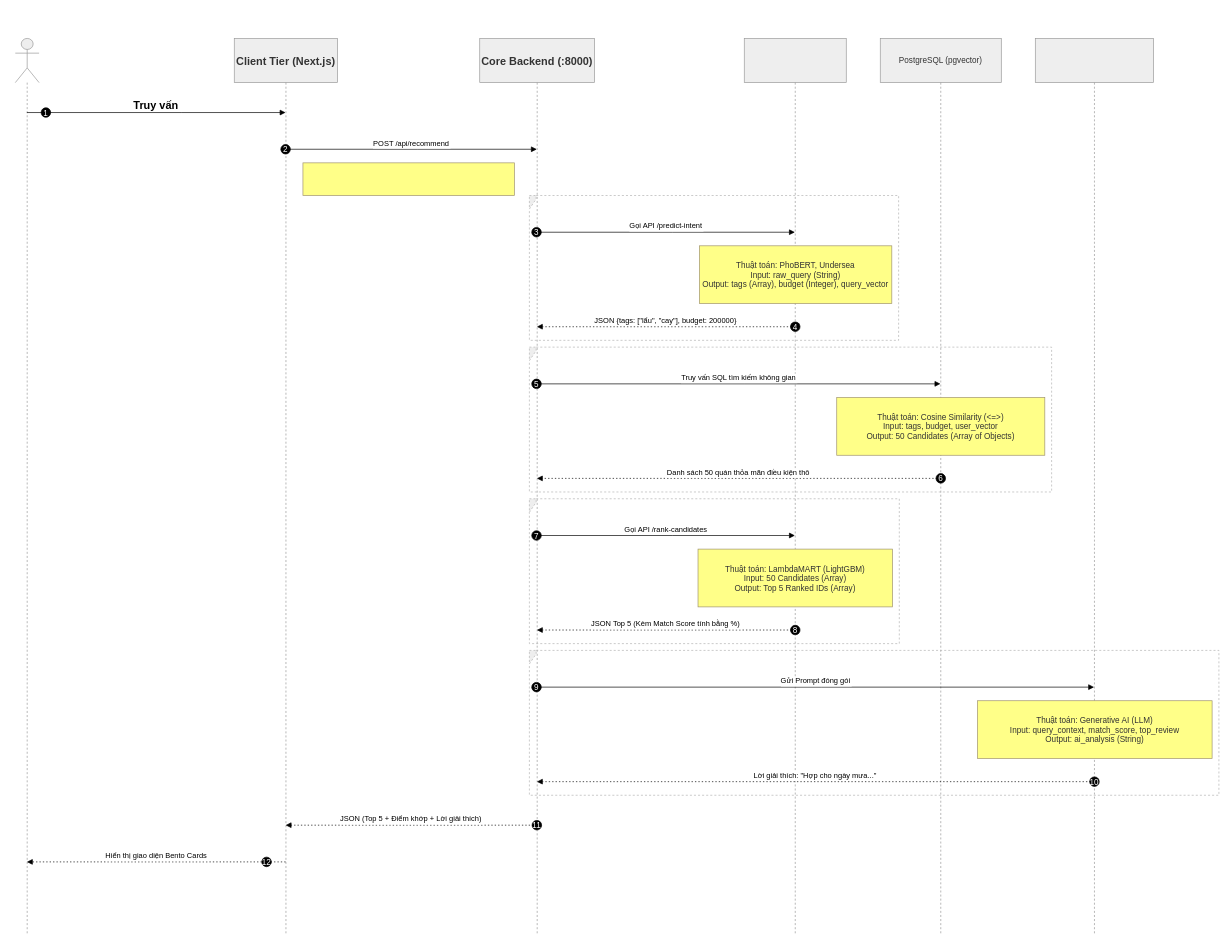
Image size: 1231x945. Some labels were removed from this diagram. The box of each missing label's shape, as (x1, y1, x2, y2) in pixels:
AI Engine (:8001): (744, 38, 846, 933)
External LLM (Gemini): (1035, 38, 1154, 933)
Input: raw_query (String), user_gps (Float): (302, 162, 514, 196)
Người dùng: (15, 38, 39, 933)
